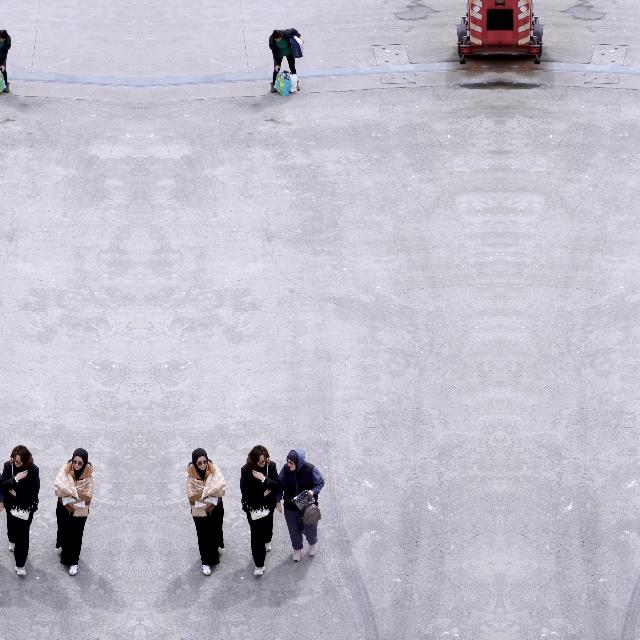person: (240, 444, 282, 576), (184, 448, 226, 576), (276, 450, 324, 562), (54, 448, 96, 576), (0, 444, 40, 576), (268, 28, 304, 94), (0, 28, 11, 93), (0, 449, 4, 562)
